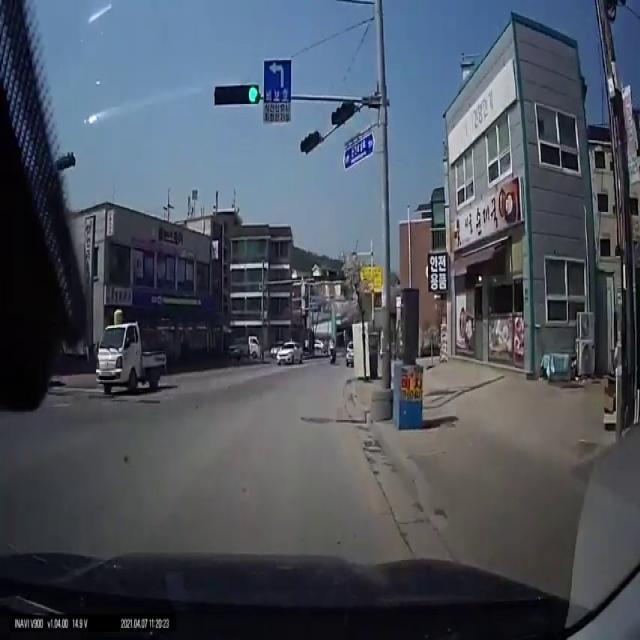pothole: (304, 415, 335, 428)
